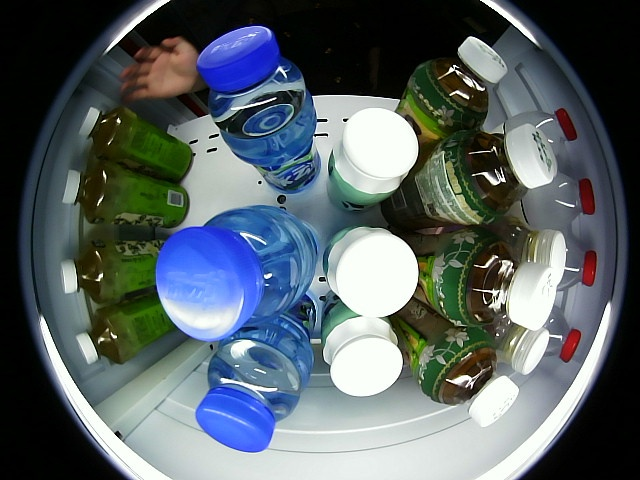asamu_xiaoye: (329, 108, 419, 212), (321, 290, 403, 397), (323, 225, 419, 315)
maidong_qingning: (154, 204, 318, 339), (197, 26, 321, 193), (196, 292, 319, 453)
moliqingcha: (381, 124, 557, 229), (386, 298, 519, 428), (390, 229, 557, 332), (393, 36, 507, 175)
nongfushanquan: (506, 170, 595, 230), (490, 108, 577, 158), (553, 228, 596, 293), (542, 305, 582, 362)
shuiputao: (488, 213, 566, 286), (492, 310, 549, 376)
tianwo_fengmiyouzi: (77, 107, 193, 184), (62, 162, 190, 228), (76, 291, 177, 364), (62, 237, 167, 307)
